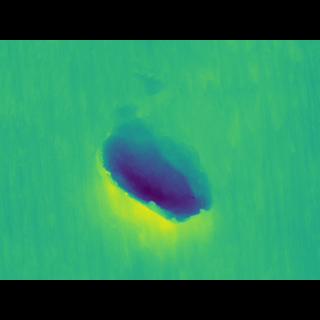Loch: (83, 115, 219, 216)
